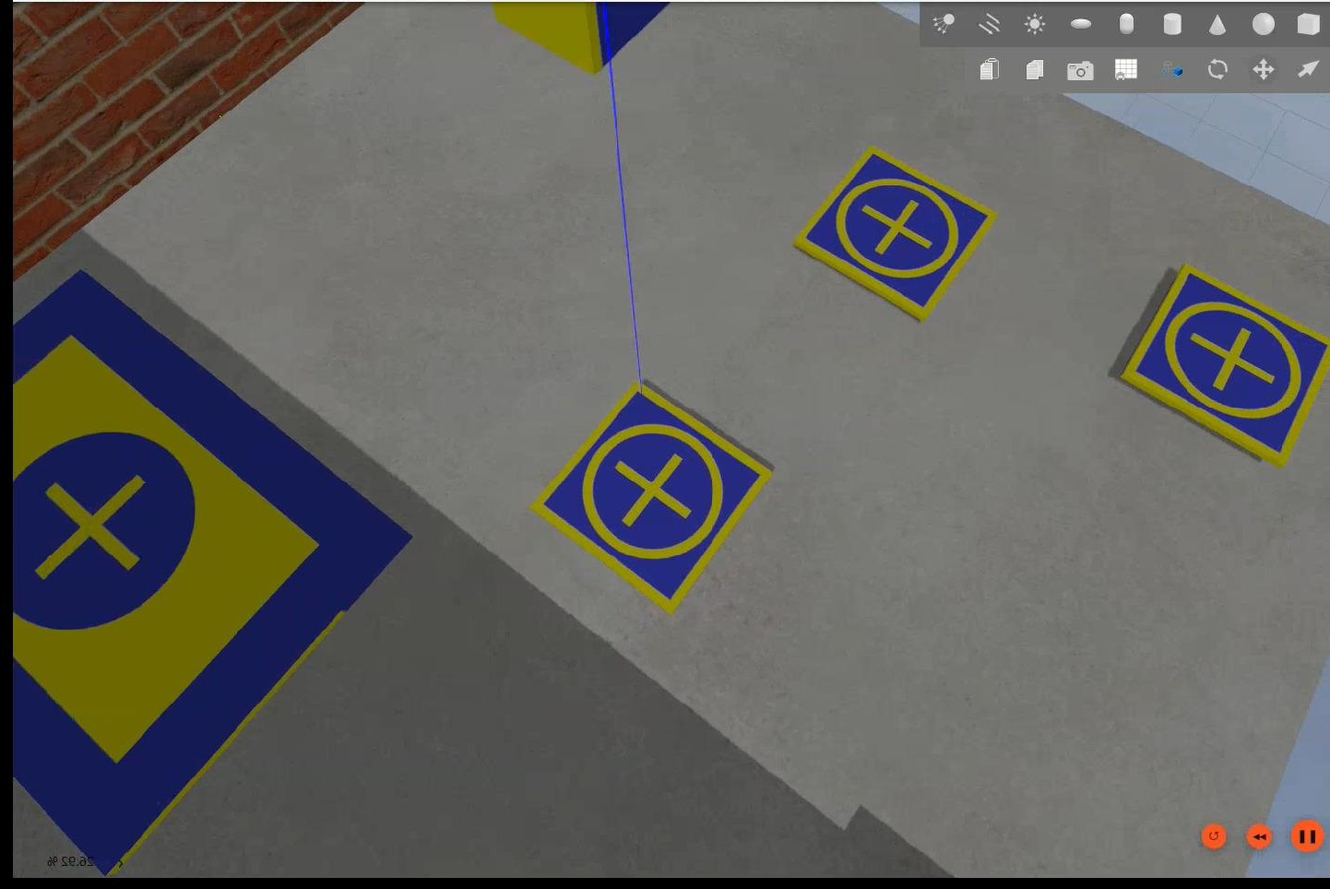large_base: (10, 266, 415, 878)
small_base: (523, 378, 775, 612), (1117, 264, 1328, 468), (790, 145, 996, 326)
